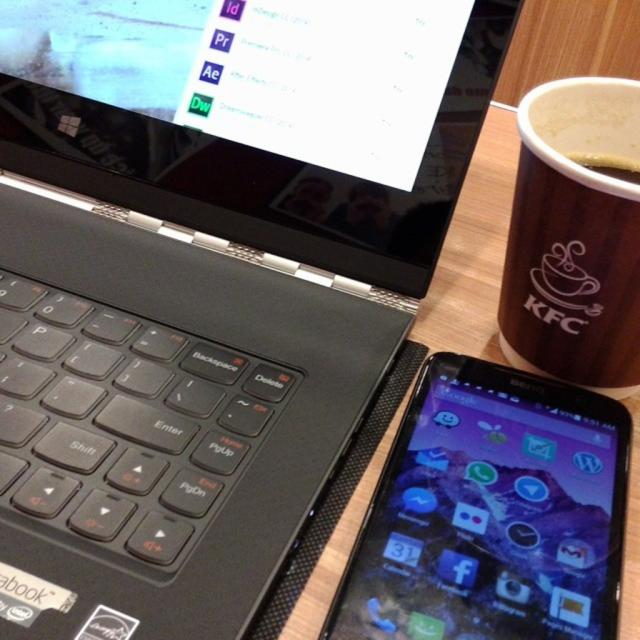Mobile-phone: (322, 359, 634, 625)
